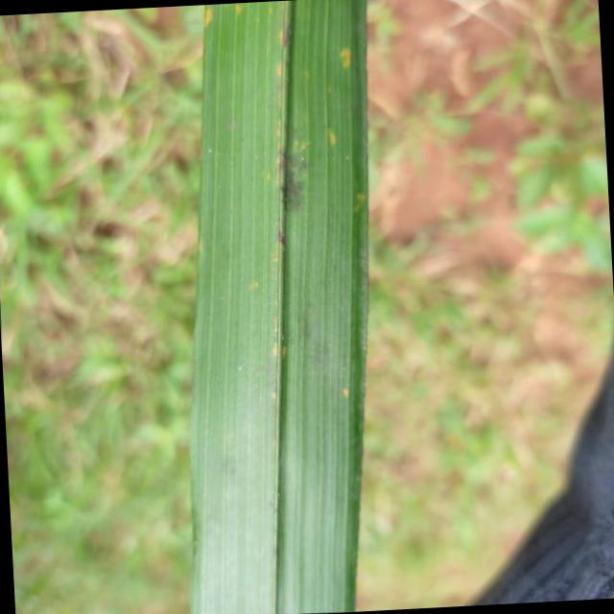Kalium: (193, 0, 368, 614)
